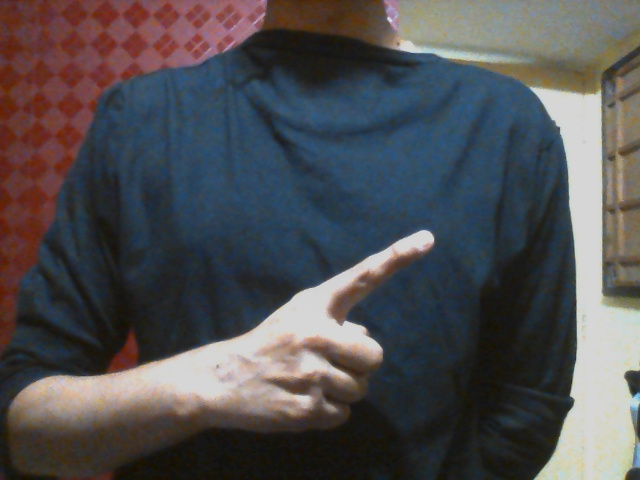I: (230, 230, 437, 435)
